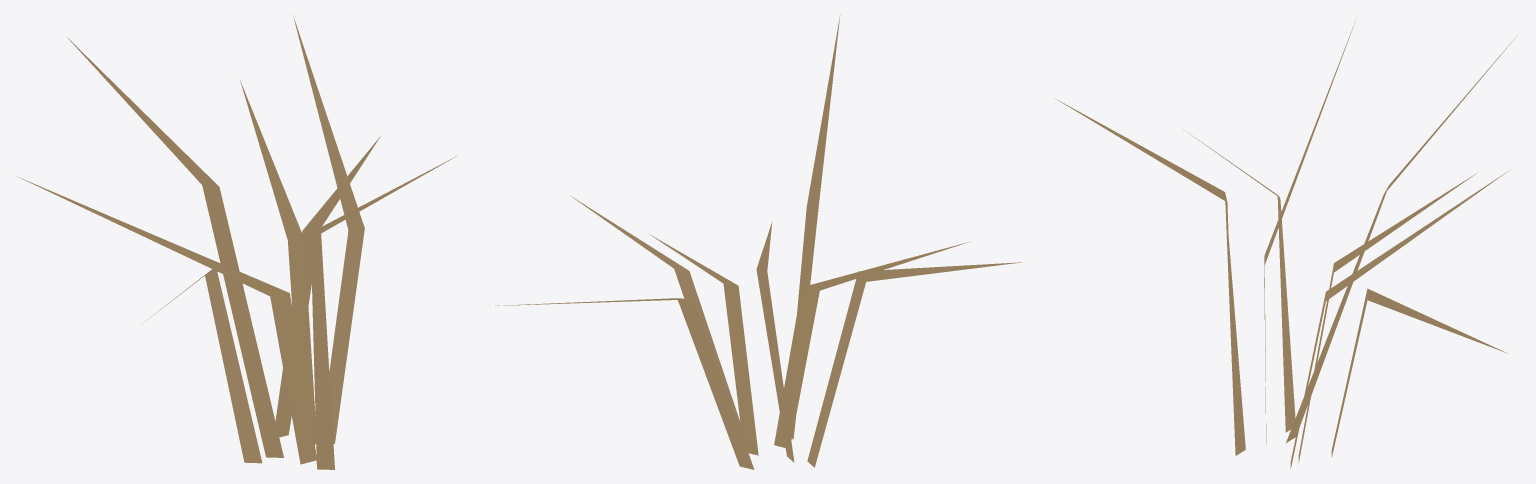
File: Grass_h_TwoS_03.fbx
The picture shows the model from 3 angles, left to right: view 1: azimuth 30°, elevation 25°; view 2: azimuth 150°, elevation 25°; view 3: azimuth 270°, elevation 25°; orthographic projection. The views are drawn at different scales.
Parts seen in each view (by area): view 1: Grass_h_TwoS_03; view 2: Grass_h_TwoS_03; view 3: Grass_h_TwoS_03.
Boxes of the visible parts, x1,y1,x2,y2 form: Grass_h_TwoS_03: (16, 15, 456, 469); Grass_h_TwoS_03: (495, 15, 1021, 469); Grass_h_TwoS_03: (1055, 17, 1516, 468).
Size of the model in its own units: 0.457 by 0.3692 by 0.4172.
